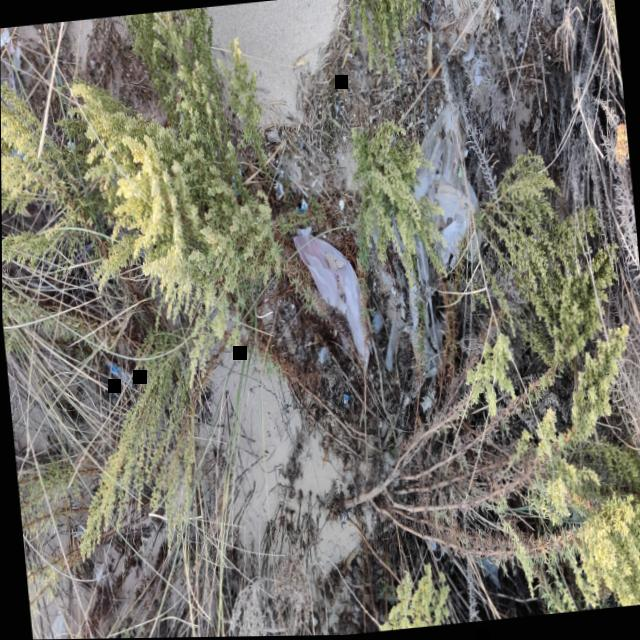Plastic film: (44, 606, 82, 640), (383, 309, 403, 372), (0, 26, 13, 54), (274, 180, 282, 201), (341, 394, 351, 404)
Unlabeled litter: (412, 104, 480, 284), (291, 234, 370, 373), (105, 360, 131, 386), (294, 197, 306, 216), (93, 562, 101, 580)
